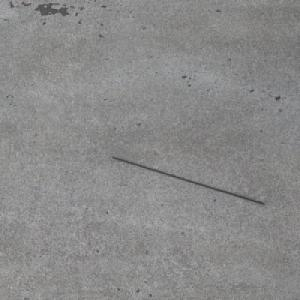LuggagePart: (110, 156, 265, 205)
